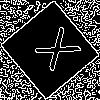X: (25, 25, 82, 80)
